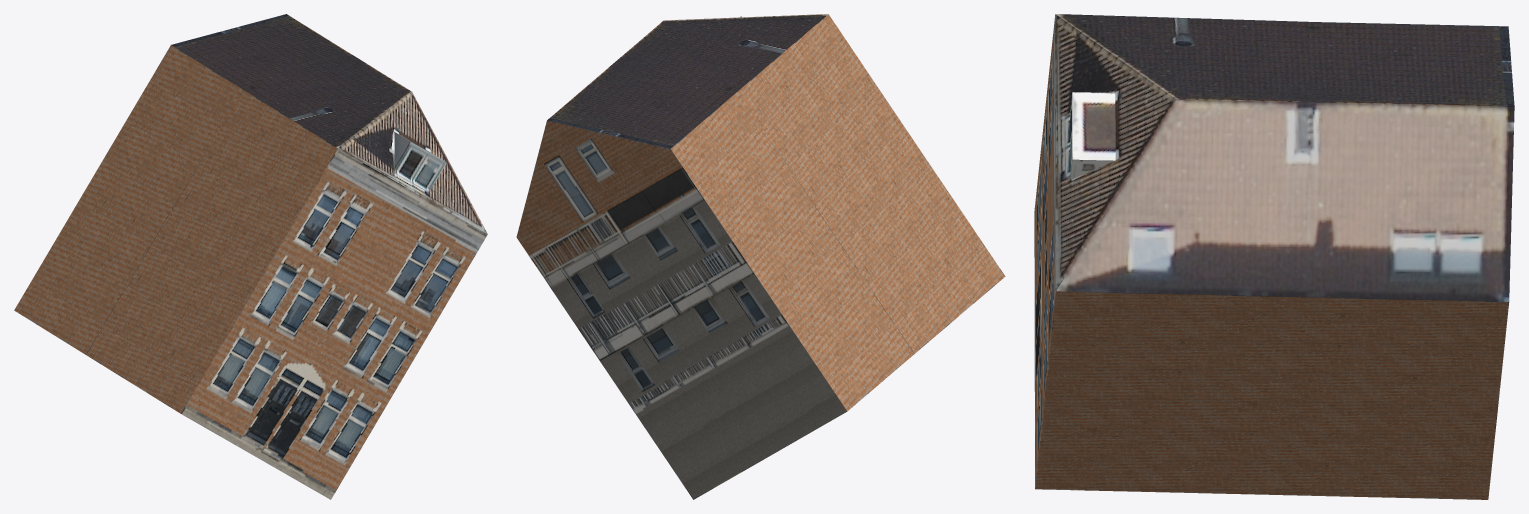
The picture shows the model from 3 angles, left to right: view 1: azimuth 30°, elevation 25°; view 2: azimuth 150°, elevation 25°; view 3: azimuth 270°, elevation 25°; orthographic projection. The views are drawn at different scales.
Visible parts, largest first — view 1: BAG_0599100000675848 (×3); view 2: BAG_0599100000675848 (×3); view 3: BAG_0599100000675848 (×4).
Part boxes in pixels (x1,y1,x2,y2): BAG_0599100000675848 (×3): [14, 14, 487, 499]; BAG_0599100000675848 (×3): [516, 14, 1005, 499]; BAG_0599100000675848 (×4): [1034, 14, 1514, 499].
Size of the model in its own units: 13.7 by 14.43 by 12.53.
1 material, 1 textured.
